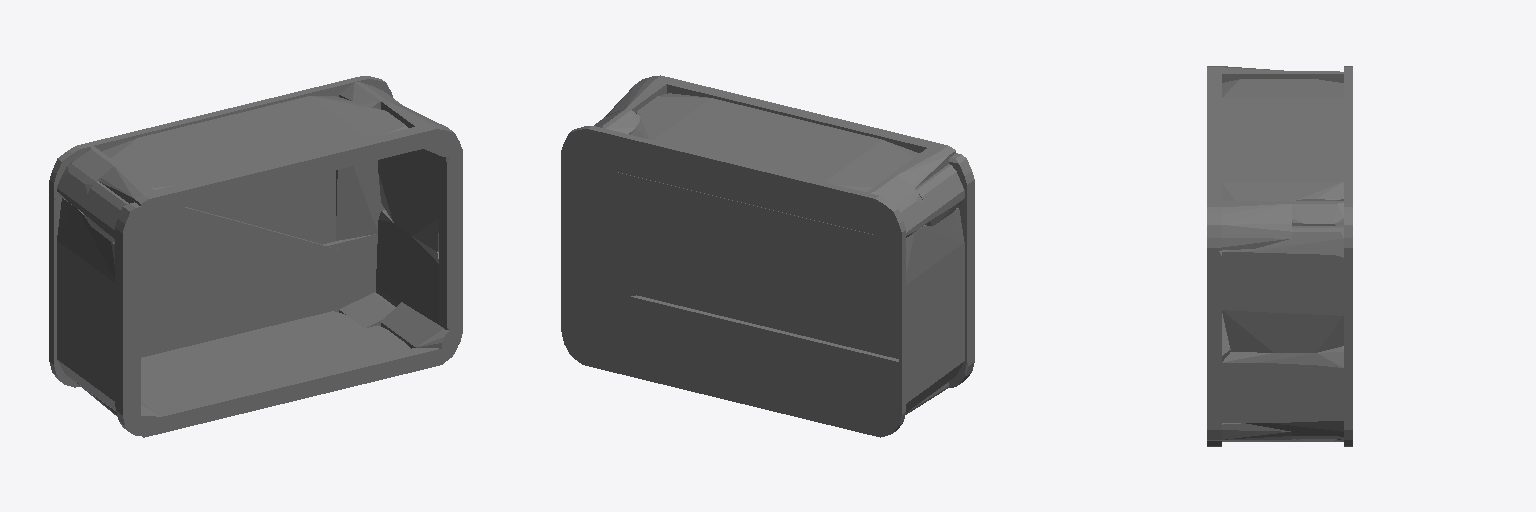
File: Boite1.obj
The picture shows the model from 3 angles: view 1: azimuth 30°, elevation 25°; view 2: azimuth 150°, elevation 25°; view 3: azimuth 270°, elevation 25°; orthographic projection.
Visible parts, largest first — view 1: ShapeIndexedFaceSet_ShapeIndexedFaceSet.431, ShapeIndexedFaceSet.021_ShapeIndexedFaceSet.452, ShapeIndexedFaceSet.006_ShapeIndexedFaceSet.437, ShapeIndexedFaceSet.016_ShapeIndexedFaceSet.447, ShapeIndexedFaceSet.018_ShapeIndexedFaceSet.449, ShapeIndexedFaceSet.009_ShapeIndexedFaceSet.440, ShapeIndexedFaceSet.019_ShapeIndexedFaceSet.450, ShapeIndexedFaceSet.015_ShapeIndexedFaceSet.446, ShapeIndexedFaceSet.011_ShapeIndexedFaceSet.442, ShapeIndexedFaceSet.004_ShapeIndexedFaceSet.435, ShapeIndexedFaceSet.013_ShapeIndexedFaceSet.444, ShapeIndexedFaceSet.020_ShapeIndexedFaceSet.451 (+11 smaller); view 2: ShapeIndexedFaceSet_ShapeIndexedFaceSet.431, ShapeIndexedFaceSet.015_ShapeIndexedFaceSet.446, ShapeIndexedFaceSet.016_ShapeIndexedFaceSet.447, ShapeIndexedFaceSet.021_ShapeIndexedFaceSet.452, ShapeIndexedFaceSet.003_ShapeIndexedFaceSet.434, ShapeIndexedFaceSet.018_ShapeIndexedFaceSet.449, ShapeIndexedFaceSet.001_ShapeIndexedFaceSet.432, ShapeIndexedFaceSet.019_ShapeIndexedFaceSet.450, ShapeIndexedFaceSet.011_ShapeIndexedFaceSet.442, ShapeIndexedFaceSet.022_ShapeIndexedFaceSet, ShapeIndexedFaceSet.014_ShapeIndexedFaceSet.445, ShapeIndexedFaceSet.010_ShapeIndexedFaceSet.441 (+3 smaller); view 3: ShapeIndexedFaceSet.021_ShapeIndexedFaceSet.452, ShapeIndexedFaceSet.013_ShapeIndexedFaceSet.444, ShapeIndexedFaceSet.004_ShapeIndexedFaceSet.435, ShapeIndexedFaceSet.007_ShapeIndexedFaceSet.438, ShapeIndexedFaceSet.020_ShapeIndexedFaceSet.451, ShapeIndexedFaceSet.019_ShapeIndexedFaceSet.450, ShapeIndexedFaceSet.001_ShapeIndexedFaceSet.432, ShapeIndexedFaceSet.002_ShapeIndexedFaceSet.433, ShapeIndexedFaceSet.008_ShapeIndexedFaceSet.439, ShapeIndexedFaceSet.003_ShapeIndexedFaceSet.434, ShapeIndexedFaceSet.010_ShapeIndexedFaceSet.441, ShapeIndexedFaceSet_ShapeIndexedFaceSet.431.
Part boxes in pixels (x1,y1,x2,y2): ShapeIndexedFaceSet_ShapeIndexedFaceSet.431: (49,234,377,387); ShapeIndexedFaceSet.021_ShapeIndexedFaceSet.452: (102,96,407,189); ShapeIndexedFaceSet.006_ShapeIndexedFaceSet.437: (141,311,410,410); ShapeIndexedFaceSet.016_ShapeIndexedFaceSet.447: (55,194,340,302); ShapeIndexedFaceSet.018_ShapeIndexedFaceSet.449: (57,198,115,410); ShapeIndexedFaceSet.009_ShapeIndexedFaceSet.440: (155,345,457,432); ShapeIndexedFaceSet.019_ShapeIndexedFaceSet.450: (155,127,422,211); ShapeIndexedFaceSet.015_ShapeIndexedFaceSet.446: (187,170,335,244); ShapeIndexedFaceSet.011_ShapeIndexedFaceSet.442: (115,202,140,435); ShapeIndexedFaceSet.004_ShapeIndexedFaceSet.435: (376,210,438,324); ShapeIndexedFaceSet.013_ShapeIndexedFaceSet.444: (378,103,438,251); ShapeIndexedFaceSet.020_ShapeIndexedFaceSet.451: (439,153,462,329); ShapeIndexedFaceSet_ShapeIndexedFaceSet.431: (561,280,905,437); ShapeIndexedFaceSet.015_ShapeIndexedFaceSet.446: (617,172,874,297); ShapeIndexedFaceSet.016_ShapeIndexedFaceSet.447: (637,240,898,357); ShapeIndexedFaceSet.021_ShapeIndexedFaceSet.452: (629,93,919,191); ShapeIndexedFaceSet.003_ShapeIndexedFaceSet.434: (617,133,905,246); ShapeIndexedFaceSet.018_ShapeIndexedFaceSet.449: (894,208,964,412); ShapeIndexedFaceSet.001_ShapeIndexedFaceSet.432: (561,126,620,292); ShapeIndexedFaceSet.019_ShapeIndexedFaceSet.450: (667,79,934,152); ShapeIndexedFaceSet.011_ShapeIndexedFaceSet.442: (949,153,974,387); ShapeIndexedFaceSet.022_ShapeIndexedFaceSet: (915,164,964,225); ShapeIndexedFaceSet.014_ShapeIndexedFaceSet.445: (867,174,929,237); ShapeIndexedFaceSet.010_ShapeIndexedFaceSet.441: (893,142,955,188); ShapeIndexedFaceSet.021_ShapeIndexedFaceSet.452: (1222,79,1343,200); ShapeIndexedFaceSet.013_ShapeIndexedFaceSet.444: (1222,226,1343,352); ShapeIndexedFaceSet.004_ShapeIndexedFaceSet.435: (1222,349,1343,438); ShapeIndexedFaceSet.007_ShapeIndexedFaceSet.438: (1207,201,1291,250); ShapeIndexedFaceSet.020_ShapeIndexedFaceSet.451: (1207,251,1221,424); ShapeIndexedFaceSet.019_ShapeIndexedFaceSet.450: (1207,74,1221,200); ShapeIndexedFaceSet.001_ShapeIndexedFaceSet.432: (1344,193,1352,377); ShapeIndexedFaceSet.002_ShapeIndexedFaceSet.433: (1292,199,1343,225); ShapeIndexedFaceSet.008_ShapeIndexedFaceSet.439: (1207,423,1291,441); ShapeIndexedFaceSet.003_ShapeIndexedFaceSet.434: (1344,66,1352,192); ShapeIndexedFaceSet.010_ShapeIndexedFaceSet.441: (1207,66,1291,82); ShapeIndexedFaceSet_ShapeIndexedFaceSet.431: (1344,378,1352,446).
Bounding box in the file's own units: 121 × 80.62 × 45.15.